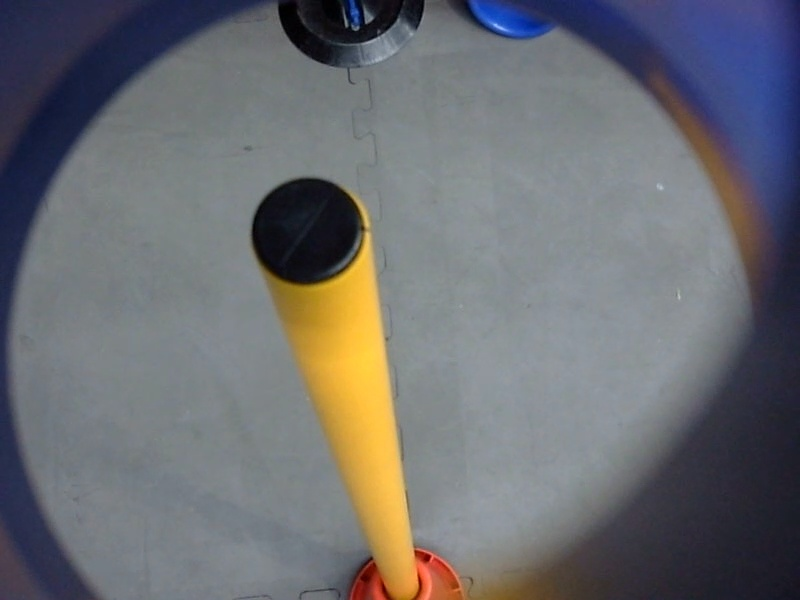tip: (240, 168, 379, 303)
